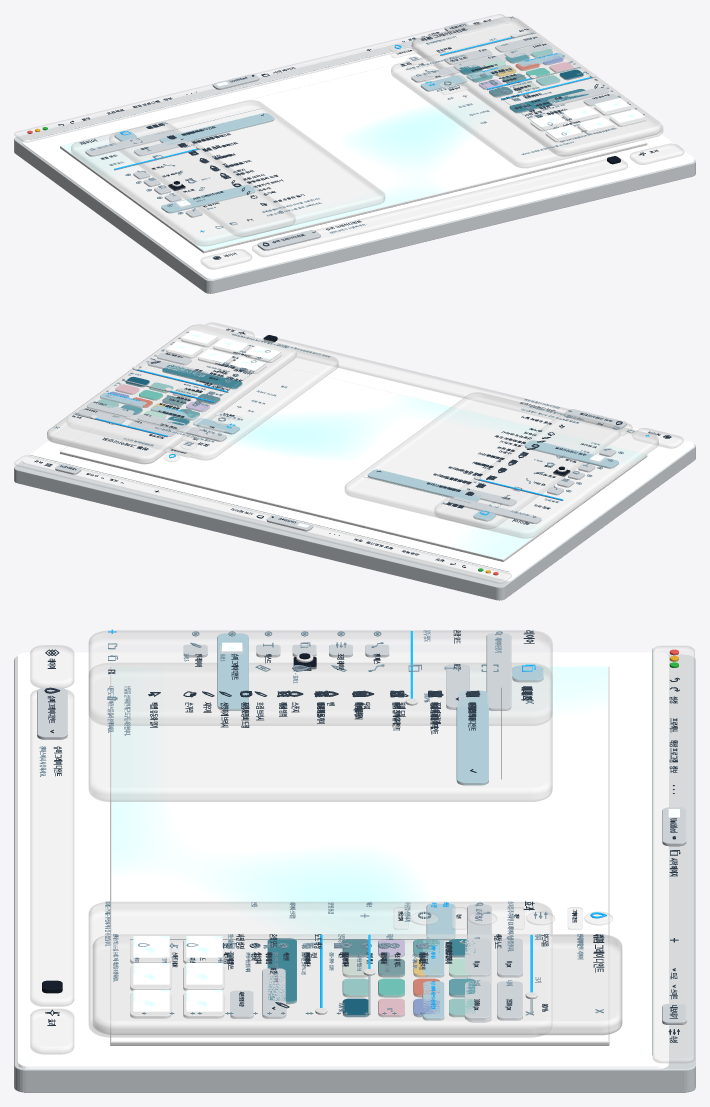
File: image-pro.glb
3 views of the same model, one above another, from view 1: azimuth 30°, elevation 25°; view 2: azimuth 150°, elevation 25°; view 3: azimuth 270°, elevation 25° (orthographic). The views are drawn at different scales.
Visible parts, largest first — view 1: SuperGradientCanvas, Workspace, Tools.glassBody, WindowEdge, Layers.glassBody, BasicInspector.glassBody, Effects.glassBody, Inspector.glassBody, Titlebar.glass, Toolbar, CanvasPaper, Tools.tool.selected (+7 smaller); view 2: SuperGradientCanvas, Workspace, Tools.glassBody, WindowEdge, Layers.glassBody, BasicInspector.glassBody, Inspector.glassBody, Titlebar.glass, Effects.glassBody, Toolbar, CanvasPaper, Tools.tool.selected (+7 smaller); view 3: SuperGradientCanvas, Workspace, Tools.glassBody, Layers.glassBody, BasicInspector.glassBody, WindowEdge, Inspector.glassBody, Effects.glassBody, Titlebar.glass, Toolbar, CanvasPaper, Tools.tool.selected (+23 smaller).
Boxes of the visible parts, x1,y1,x2,y2 form: SuperGradientCanvas: [61, 38, 645, 250]; Workspace: [22, 24, 694, 279]; Tools.glassBody: [109, 100, 384, 236]; WindowEdge: [14, 20, 695, 293]; Layers.glassBody: [71, 122, 295, 246]; BasicInspector.glassBody: [412, 17, 661, 156]; Effects.glassBody: [391, 32, 662, 167]; Inspector.glassBody: [412, 17, 660, 149]; Titlebar.glass: [14, 14, 505, 142]; Toolbar: [252, 158, 627, 256]; CanvasPaper: [60, 57, 647, 253]; Tools.tool.selected: [159, 113, 274, 144]; SuperGradientCanvas: [61, 347, 645, 559]; Workspace: [22, 325, 694, 581]; Tools.glassBody: [345, 392, 620, 528]; WindowEdge: [14, 444, 695, 600]; Layers.glassBody: [434, 414, 658, 538]; BasicInspector.glassBody: [47, 324, 296, 463]; Inspector.glassBody: [47, 324, 295, 463]; Titlebar.glass: [14, 455, 511, 583]; Effects.glassBody: [98, 342, 338, 460]; Toolbar: [262, 337, 632, 435]; CanvasPaper: [60, 374, 647, 561]; Tools.tool.selected: [367, 469, 481, 501]; SuperGradientCanvas: [111, 666, 607, 1041]; Workspace: [17, 652, 668, 1068]; Tools.glassBody: [89, 663, 552, 801]; Layers.glassBody: [89, 630, 552, 725]; BasicInspector.glassBody: [93, 934, 621, 1034]; WindowEdge: [14, 654, 695, 1092]; Inspector.glassBody: [94, 934, 621, 1034]; Effects.glassBody: [89, 902, 552, 1037]; Titlebar.glass: [653, 646, 694, 1062]; Toolbar: [30, 690, 73, 1006]; CanvasPaper: [110, 666, 609, 1045]; Tools.tool.selected: [456, 690, 488, 785].
Size of the model in its own units: 10 by 0.771 by 6.94.
